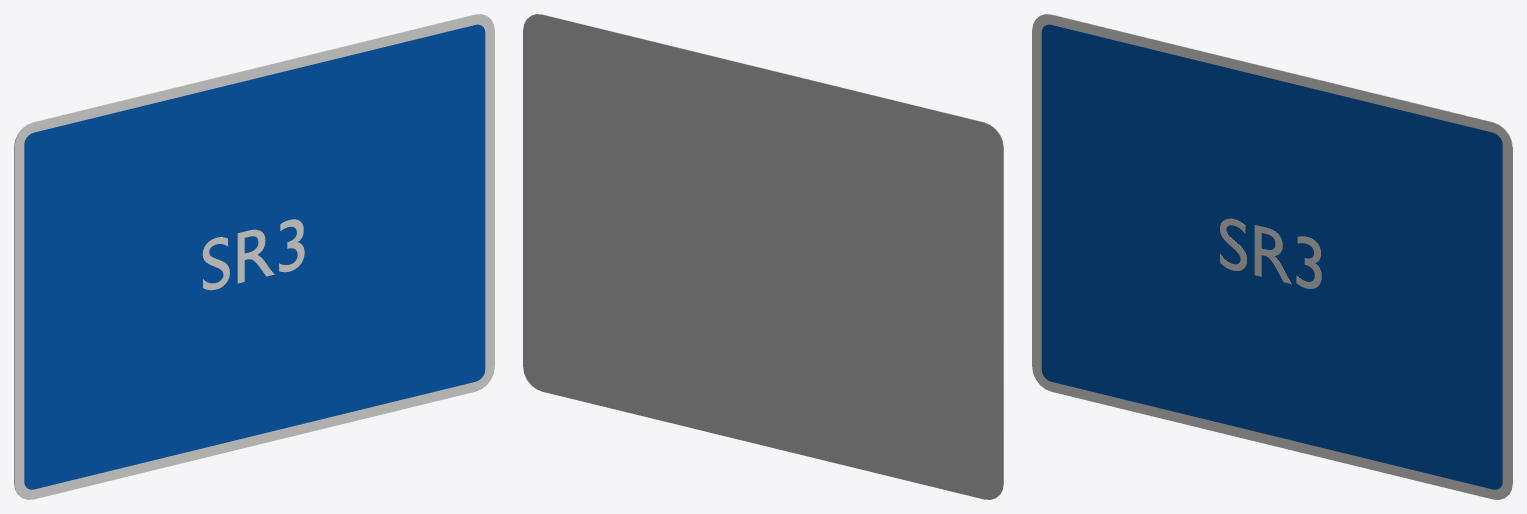
The picture shows the model from 3 angles, left to right: view 1: azimuth 30°, elevation 25°; view 2: azimuth 150°, elevation 25°; view 3: azimuth 330°, elevation 25°; orthographic projection.
Parts seen in each view (by area): view 1: SR3_fond01, SR3_cadre00, SR3_txt02, SR3_dos; view 2: SR3_dos; view 3: SR3_fond01, SR3_cadre00, SR3_txt02, SR3_dos.
Boxes of the visible parts, x1=… form: SR3_fond01: x1=24, y1=24, x2=485, y2=489; SR3_cadre00: x1=14, y1=14, x2=494, y2=499; SR3_txt02: x1=202, y1=219, x2=304, y2=290; SR3_dos: x1=14, y1=14, x2=483, y2=493; SR3_dos: x1=523, y1=14, x2=1003, y2=499; SR3_fond01: x1=1041, y1=24, x2=1502, y2=489; SR3_cadre00: x1=1032, y1=14, x2=1512, y2=499; SR3_txt02: x1=1220, y1=218, x2=1321, y2=288; SR3_dos: x1=1043, y1=14, x2=1512, y2=493.
Bounding box in the file's own units: 1 × 0.75 × 0.0025.
